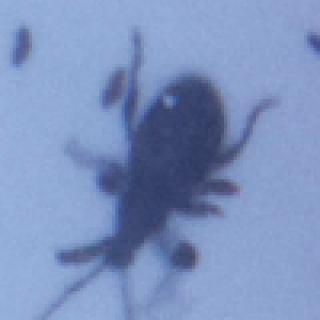bvw: (42, 27, 276, 320)
